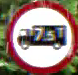Heavy Vehicles: (6, 2, 77, 74)
